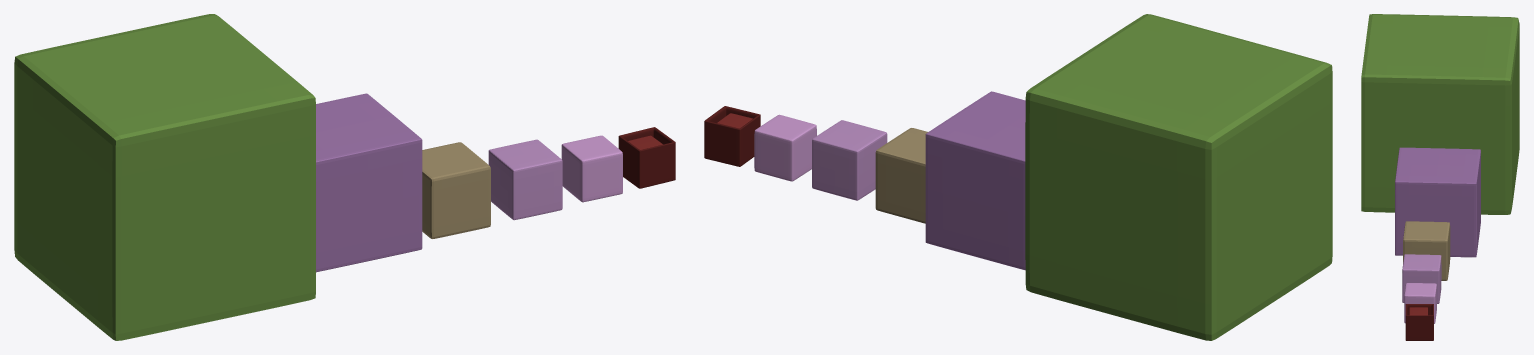
The model's file is Biomass_animation.fbx.
The picture shows the model from 3 angles, left to right: view 1: azimuth 30°, elevation 25°; view 2: azimuth 150°, elevation 25°; view 3: azimuth 270°, elevation 25°; orthographic projection. The views are drawn at different scales.
Visible parts, largest first — view 1: Fungi - Fungi.008, Bacteria - Bacteria.004, Fungi - Fungi.007, Archaea - Archaea.004, Protists - Protists.004, Animals - Animals.008; view 2: Fungi - Fungi.008, Bacteria - Bacteria.004, Archaea - Archaea.004, Fungi - Fungi.007, Protists - Protists.004, Animals - Animals.008; view 3: Fungi - Fungi.008, Bacteria - Bacteria.004, Fungi - Fungi.007, Archaea - Archaea.004, Animals - Animals.008, Protists - Protists.004, Animals - Fish.008.
Boxes of the visible parts, left/top/right/bottom form: Fungi - Fungi.008: left=14, top=14, right=315, bottom=340; Bacteria - Bacteria.004: left=316, top=93, right=422, bottom=272; Fungi - Fungi.007: left=422, top=142, right=490, bottom=238; Archaea - Archaea.004: left=488, top=139, right=562, bottom=220; Protists - Protists.004: left=561, top=135, right=622, bottom=202; Animals - Animals.008: left=618, top=127, right=675, bottom=188; Fungi - Fungi.008: left=1025, top=14, right=1332, bottom=340; Bacteria - Bacteria.004: left=925, top=91, right=1025, bottom=270; Archaea - Archaea.004: left=812, top=120, right=887, bottom=200; Fungi - Fungi.007: left=875, top=128, right=927, bottom=223; Protists - Protists.004: left=754, top=114, right=816, bottom=181; Animals - Animals.008: left=704, top=106, right=760, bottom=166; Fungi - Fungi.008: left=1361, top=14, right=1519, bottom=214; Bacteria - Bacteria.004: left=1395, top=147, right=1480, bottom=257; Fungi - Fungi.007: left=1403, top=221, right=1450, bottom=280; Archaea - Archaea.004: left=1402, top=254, right=1441, bottom=303; Animals - Animals.008: left=1405, top=304, right=1433, bottom=340; Protists - Protists.004: left=1404, top=283, right=1436, bottom=323; Animals - Fish.008: left=1409, top=307, right=1427, bottom=315.
Bounding box in the file's own units: 2304 × 769 × 805.
